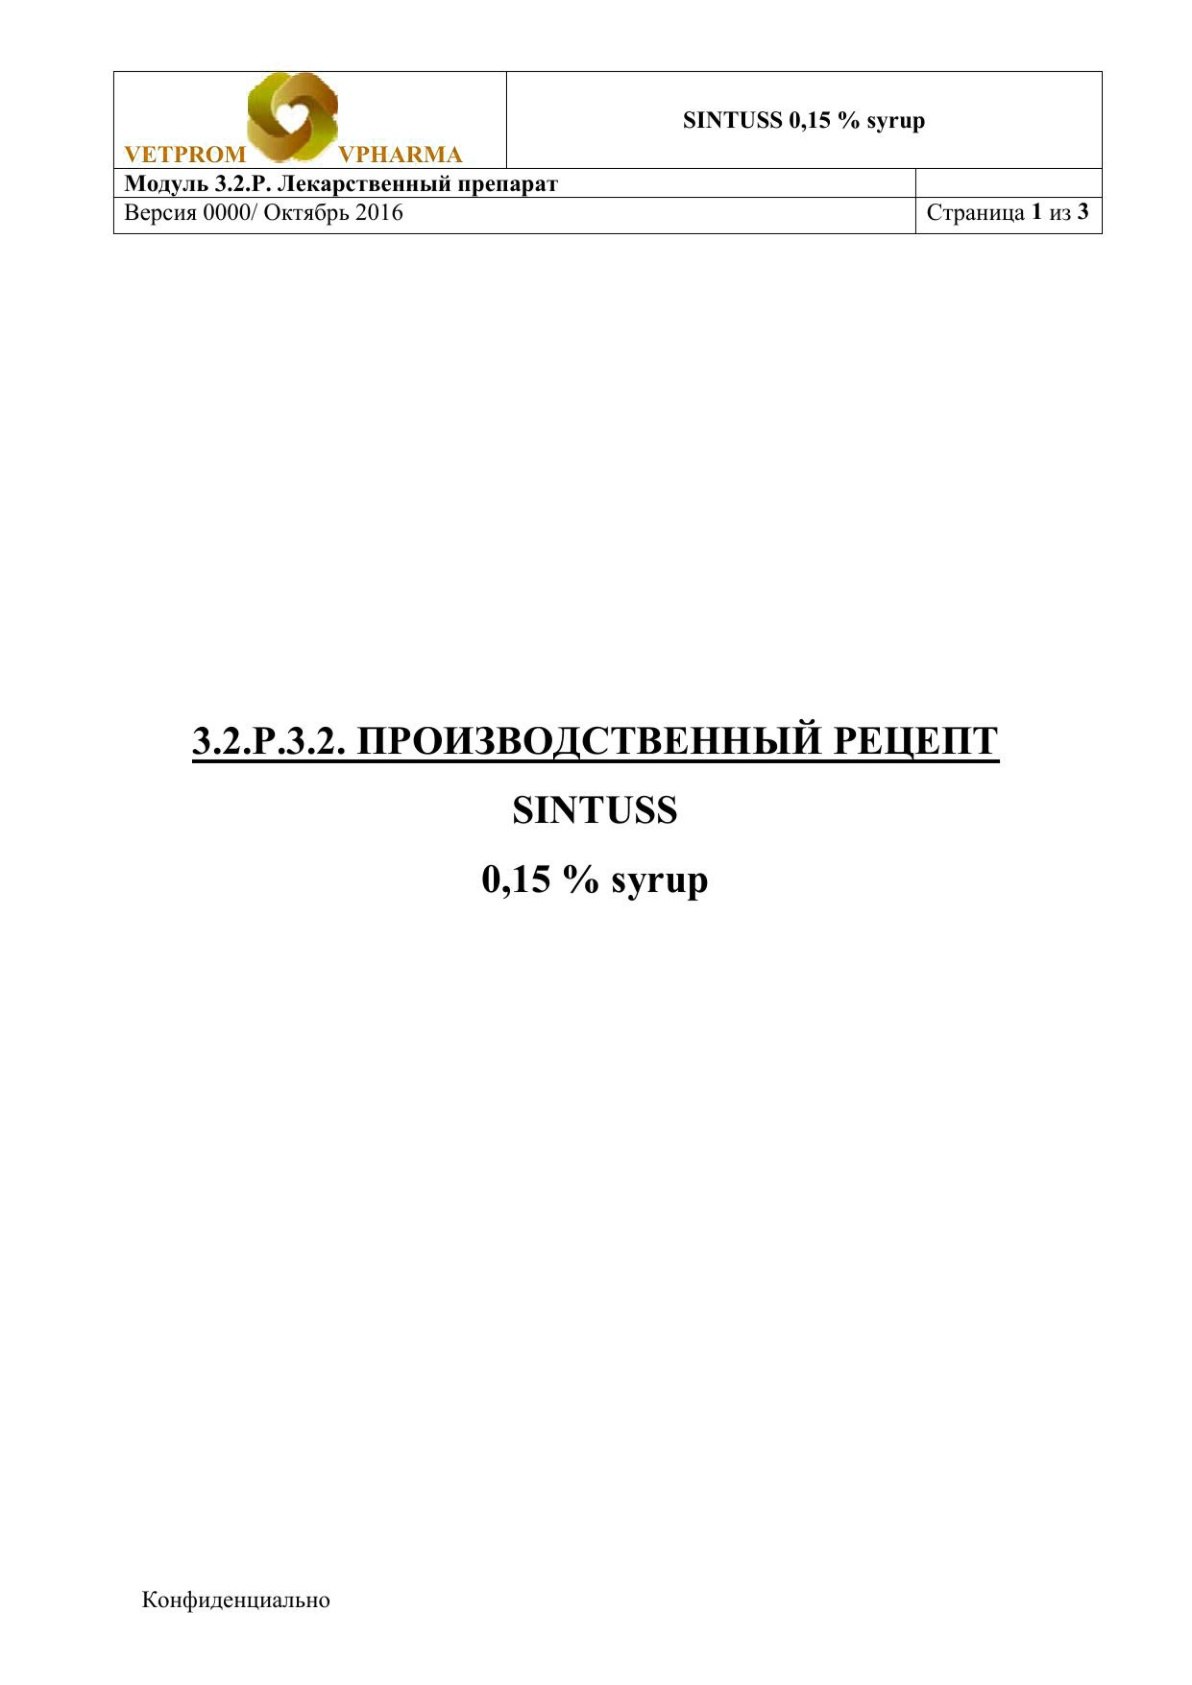merged_cells: (114, 70, 1104, 235)
